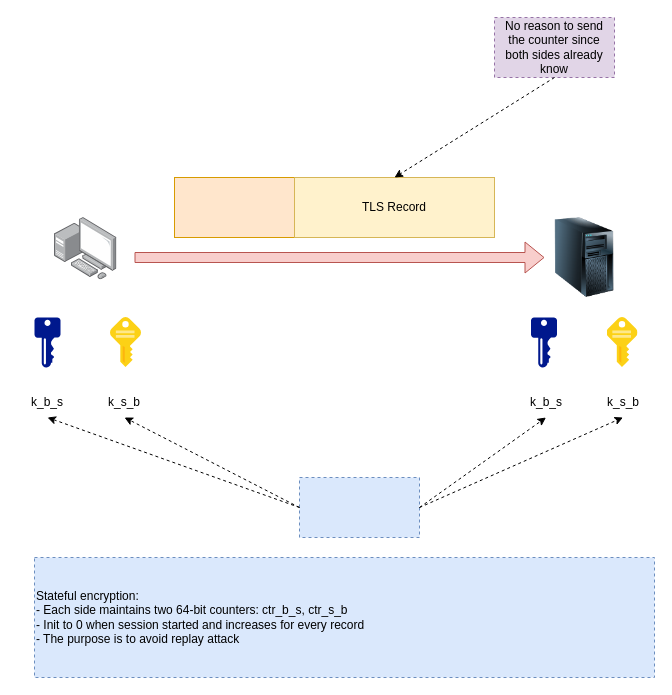
This 672x695 diagram has some shape labels left out. Here are the shapes that lost their labels. From the top down, the centre of each, then its label:
[234,207]: HDR
[359,507]: Unidirectional keys: k_b_s and k_s_b
